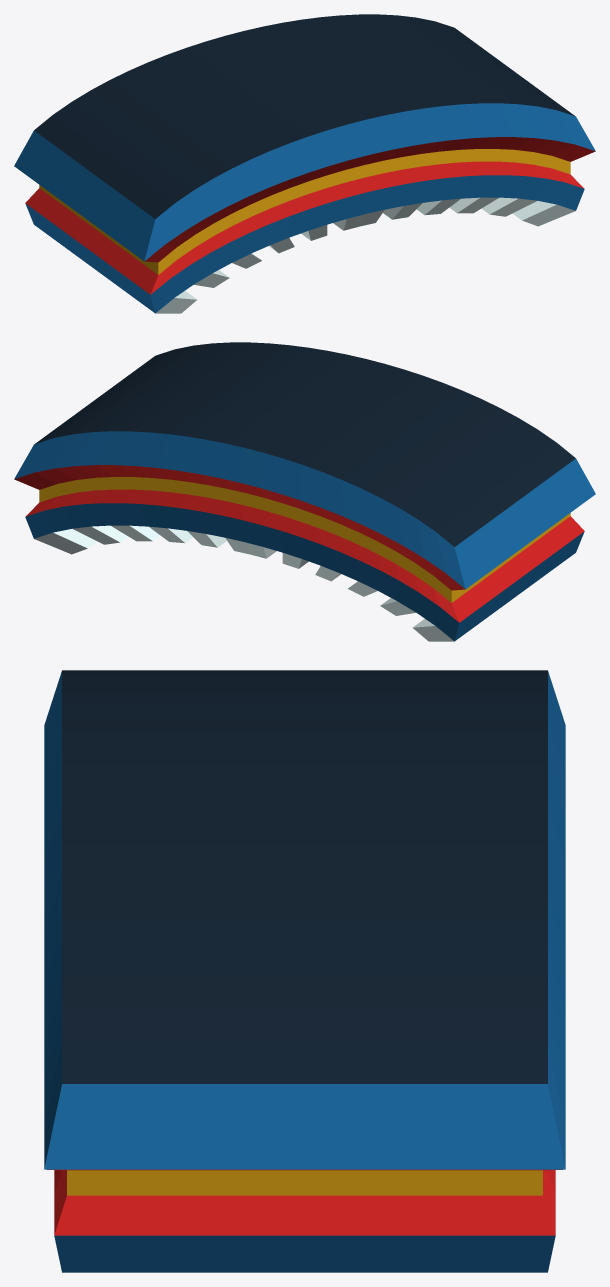
Rendered from Paddle.fbx.
3 renders of one model, top to bottom at view 1: azimuth 30°, elevation 25°; view 2: azimuth 150°, elevation 25°; view 3: azimuth 270°, elevation 25°, orthographic. The views are drawn at different scales.
Visible parts, largest first — view 1: Paddle; view 2: Paddle; view 3: Paddle.
Boxes of the visible parts, x1,y1,x2,y2 form: Paddle: [14, 14, 595, 313]; Paddle: [14, 342, 595, 641]; Paddle: [44, 670, 565, 1272].
Bounding box in the file's own units: 4.29 × 1.41 × 2.15.
